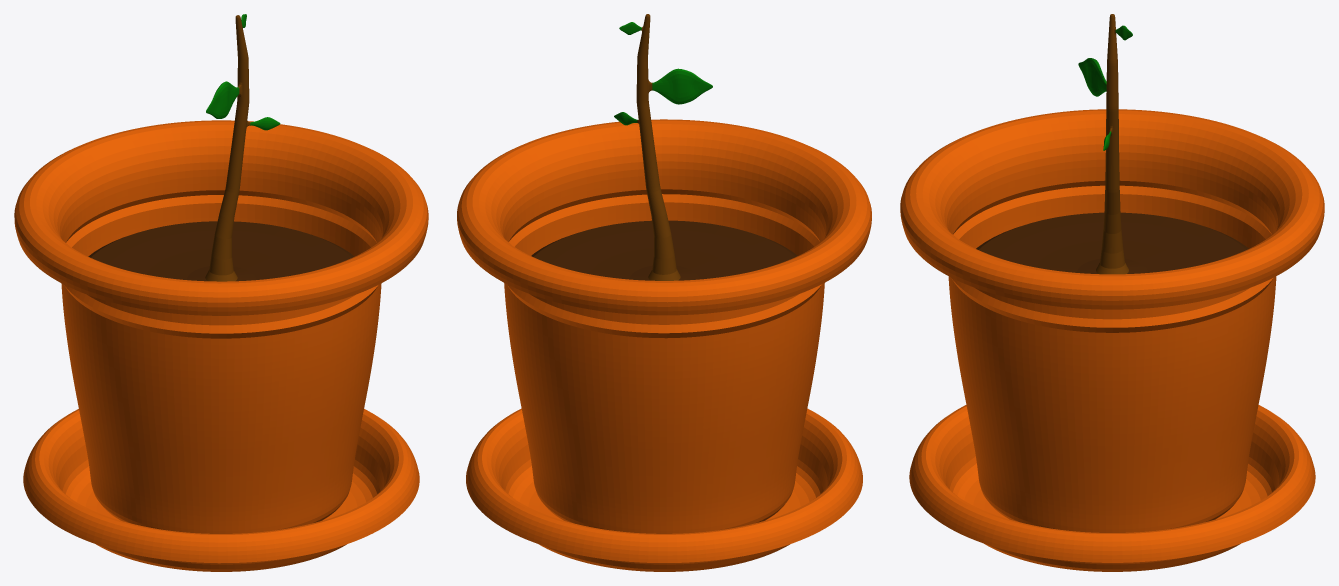
File: _aksi.fbx
3 views of the same model, side by side, from view 1: azimuth 30°, elevation 25°; view 2: azimuth 150°, elevation 25°; view 3: azimuth 270°, elevation 25° (orthographic). The views are drawn at different scales.
Visible parts, largest first — view 1: Kova, AltKapak, ToprakBitki; view 2: Kova, AltKapak, ToprakBitki; view 3: Kova, AltKapak, ToprakBitki.
Part boxes in pixels (<box>): Kova: <box>14,120,428,533</box>; AltKapak: <box>23,409,419,571</box>; ToprakBitki: <box>88,14,354,281</box>; Kova: <box>457,119,871,533</box>; AltKapak: <box>466,408,862,571</box>; ToprakBitki: <box>531,14,797,280</box>; Kova: <box>900,109,1324,532</box>; AltKapak: <box>909,405,1315,571</box>; ToprakBitki: <box>976,14,1248,274</box>.
Size of the model in its own units: 256 by 336 by 256.
